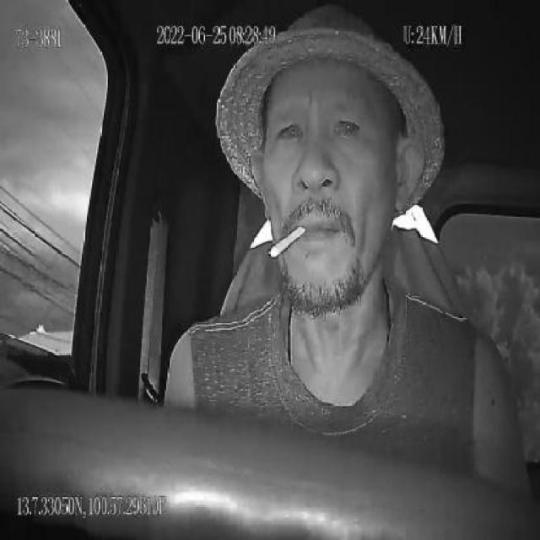smoking: (268, 226, 307, 258)
